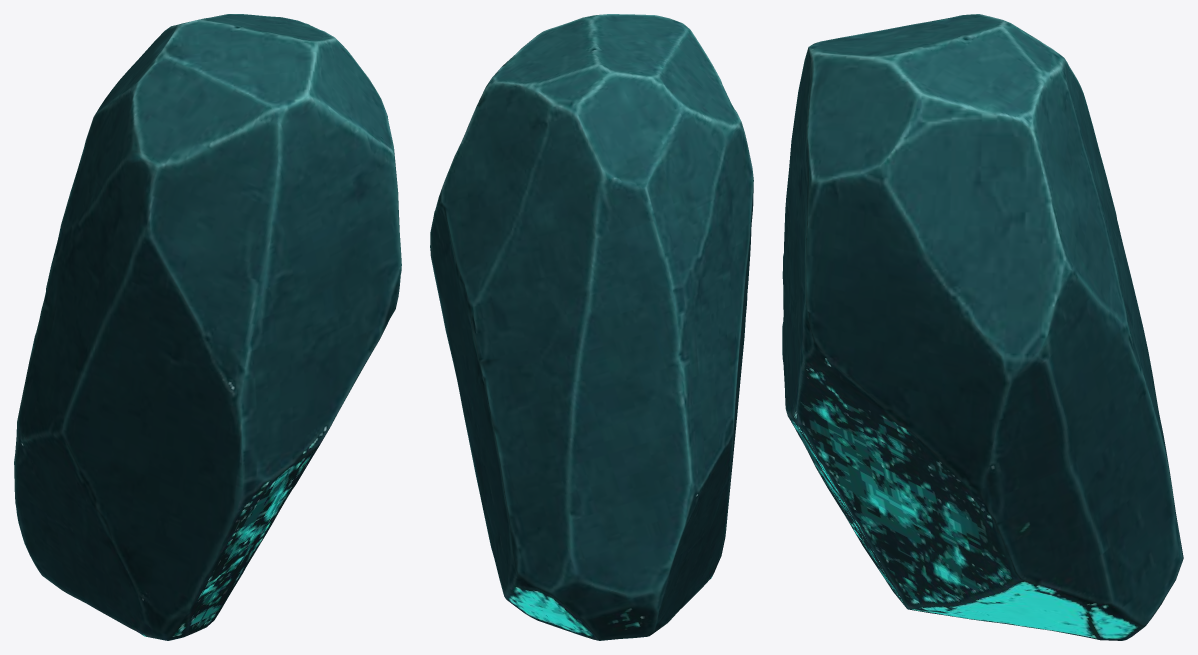
Rendered from sky_boulder_f_soma.glb.
3 views of the same model, side by side, from view 1: azimuth 30°, elevation 25°; view 2: azimuth 150°, elevation 25°; view 3: azimuth 270°, elevation 25° (orthographic). The views are drawn at different scales.
Visible parts, largest first — view 1: boulder_f; view 2: boulder_f; view 3: boulder_f.
Boxes of the visible parts, x1=… form: boulder_f: x1=14, y1=14, x2=401, y2=640; boulder_f: x1=430, y1=14, x2=753, y2=640; boulder_f: x1=782, y1=14, x2=1183, y2=640.
Size of the model in its own units: 6.09 by 10.51 by 6.27.
1 material, 1 textured.
